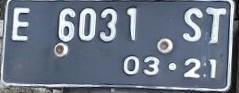clone-license-plate: (2, 0, 233, 89)
